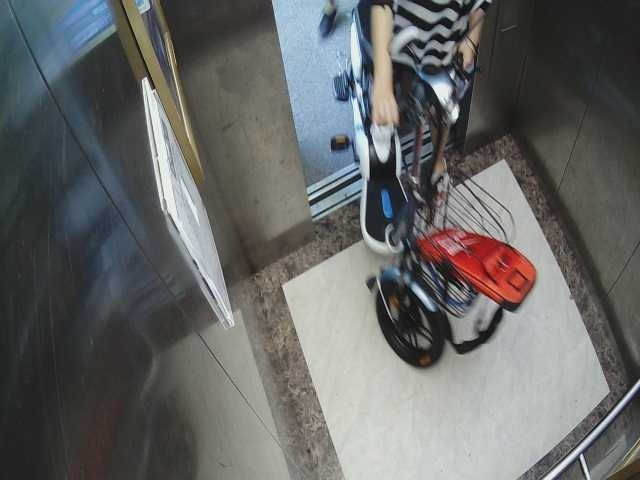emotor: (318, 10, 515, 376)
